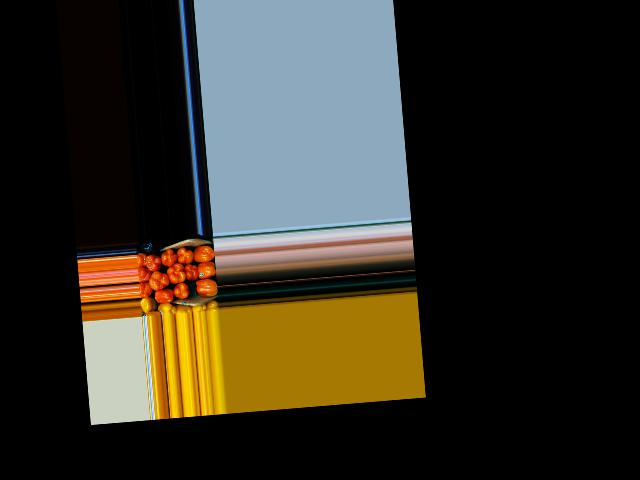bell_pepper: (156, 302, 179, 314)
